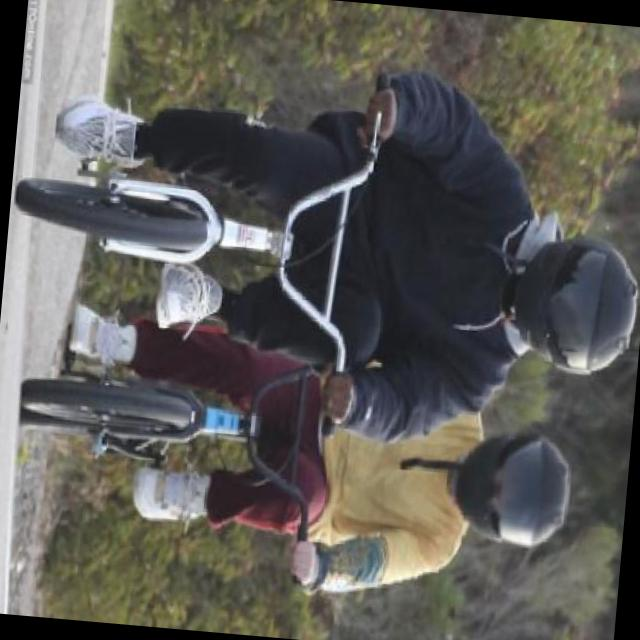With Helmet: (507, 229, 640, 381), (446, 426, 578, 554)
